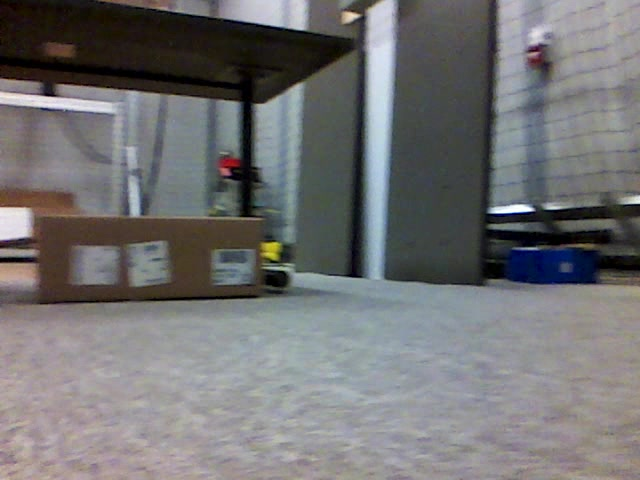box: (40, 216, 262, 298)
